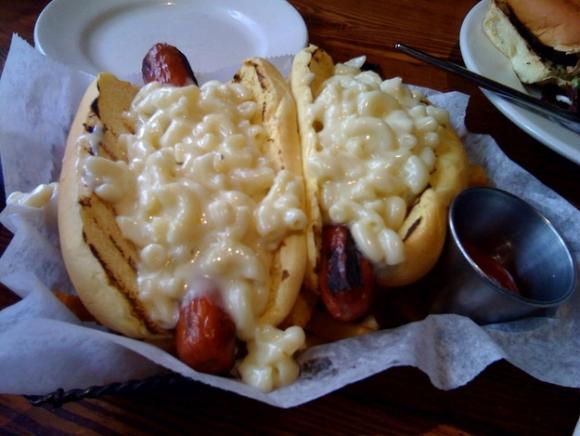cheese: (139, 93, 247, 286), (318, 82, 418, 223)
